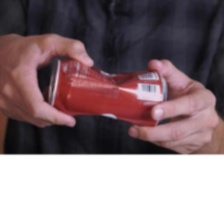can: (45, 54, 169, 131)
